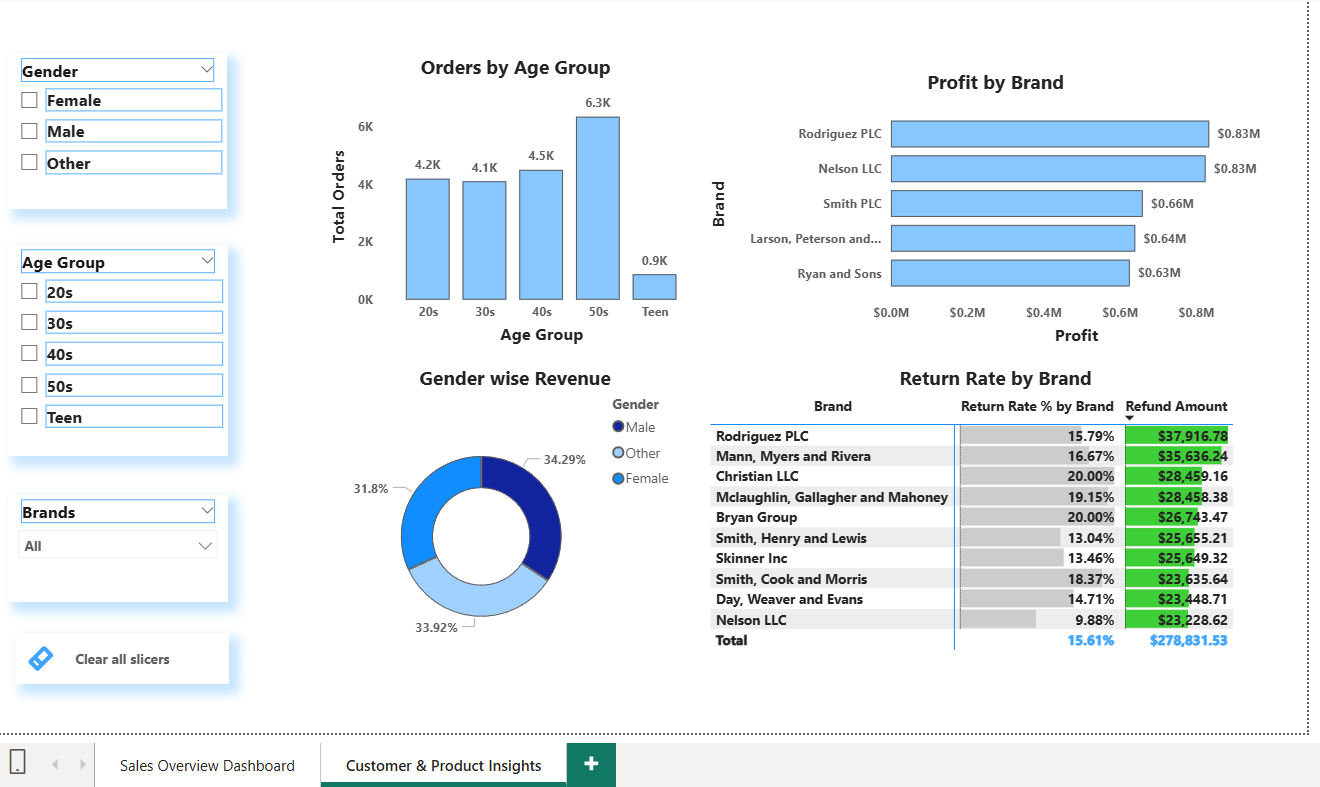

What the dashboard file says about the page in this screenshot:
{"tool":"powerbi","page":{"name":"Customer & Product Insights","canvas":[1280,720],"ordinal":1},"visuals":[{"type":"columnChart","title":"Orders by Age Group","fields":{"Category":["customers.Age Group"],"Y":["Measure.Total Orders"]},"box":[320.3,54.8,372.2,290],"z":0},{"type":"donutChart","title":"Gender wise Revenue","fields":{"Category":["customers.gender"],"Y":["Measure.Total Revenue"]},"box":[339.9,359.9,331.9,311.9],"z":1000},{"type":"clusteredBarChart","title":"Profit by Brand ","fields":{"Category":["products.brand"],"Y":["Measure.Profit"]},"box":[692.3,69.4,567.8,275.9],"z":2000},{"type":"pivotTable","title":"Return Rate by Brand","fields":{"Rows":["products.brand"],"Values":["Measure.Return Rate % by Brand","Measure.Refund Amount"]},"box":[691.8,359.9,567.8,311.9],"z":3000},{"type":"slicer","fields":{"Values":["customers.gender"]},"box":[10.2,54.9,214.7,152],"z":4000},{"type":"slicer","fields":{"Values":["customers.Age Group"]},"box":[9.4,241.7,215.2,207.4],"z":5000},{"type":"slicer","fields":{"Values":["products.brand"]},"box":[9.4,486.4,215.2,104.5],"z":6000},{"type":"actionButton","box":[17.1,622.1,208.9,49.9],"z":7000}]}

Visuals, with their boxes on the page's 1280x720 design canvas (x1, y1, x2, y2). These are canvas units, not pixel positions in the 1320x787 screenshot, which may show the page scaled, cropped or inside an application window:
"Orders by Age Group" columnChart: [320,55,692,345]
"Gender wise Revenue" donutChart: [340,360,672,672]
"Profit by Brand " clusteredBarChart: [692,69,1260,345]
"Return Rate by Brand" pivotTable: [692,360,1260,672]
slicer - customers.gender: [10,55,225,207]
slicer - customers.Age Group: [9,242,225,449]
slicer - products.brand: [9,486,225,591]
actionButton: [17,622,226,672]
